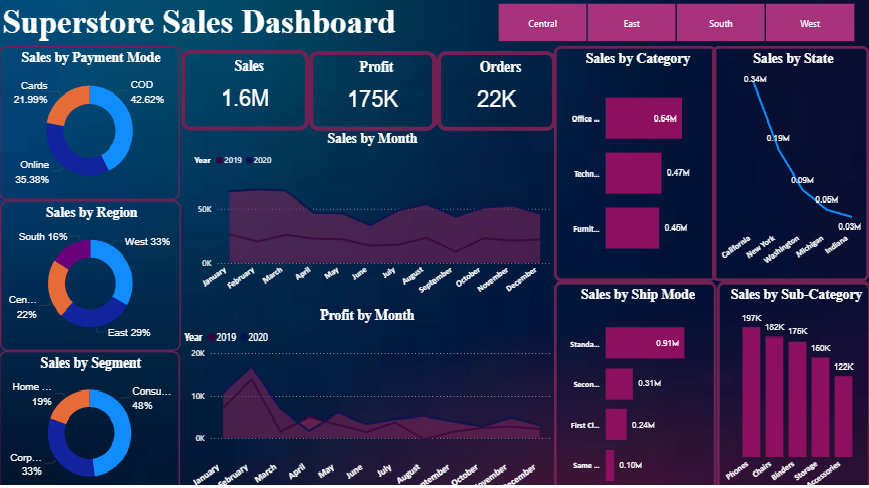

The page's visual inventory and layout, read from the dashboard file:
{"tool":"powerbi","page":{"name":"Page 1","canvas":[1280,720],"ordinal":0},"visuals":[{"type":"clusteredBarChart","title":"Sales by Category","fields":{"Category":["SuperStore_Sales_Dataset.Category"],"Y":["Sum(SuperStore_Sales_Dataset.Sales)"]},"box":[815.4,66.5,238.6,334],"z":0},{"type":"clusteredColumnChart","title":"Sales by Sub-Category","fields":{"Y":["Sum(SuperStore_Sales_Dataset.Sales)"],"Category":["SuperStore_Sales_Dataset.Sub-Category"]},"box":[1054,400.5,225.5,319.5],"z":1000},{"type":"lineChart","title":"Sales by State","fields":{"Category":["SuperStore_Sales_Dataset.State"],"Y":["Sum(SuperStore_Sales_Dataset.Sales)"]},"box":[1047.4,66.1,231.2,334.5],"z":2000},{"type":"clusteredBarChart","title":"Sales by Ship Mode","fields":{"Y":["Sum(SuperStore_Sales_Dataset.Sales)"],"Category":["SuperStore_Sales_Dataset.Ship Mode"]},"box":[815.4,400.5,238.6,319.5],"z":3000},{"type":"donutChart","title":"Sales by Region","fields":{"Y":["Sum(SuperStore_Sales_Dataset.Sales)"],"Category":["SuperStore_Sales_Dataset.Region"]},"box":[1.4,284.9,265.6,213.3],"z":4000},{"type":"donutChart","title":" Sales by Payment Mode","fields":{"Y":["Sum(SuperStore_Sales_Dataset.Sales)"],"Category":["SuperStore_Sales_Dataset.Payment Mode"]},"box":[0,66.2,266.2,219.1],"z":5000},{"type":"stackedAreaChart","title":" Sales by Month ","fields":{"Category":["SuperStore_Sales_Dataset.Order Date.Variation.Date Hierarchy.Month","SuperStore_Sales_Dataset.Order Date.Variation.Date Hierarchy.Day"],"Y":["Sum(SuperStore_Sales_Dataset.Sales)"],"Series":["SuperStore_Sales_Dataset.Order Date.Variation.Date Hierarchy.Year"]},"box":[281.9,186.5,533.5,248.7],"z":6000},{"type":"textbox","box":[0,0,766.3,66.5],"z":7000},{"type":"slicer","fields":{"Values":["SuperStore_Sales_Dataset.Region"]},"box":[707.4,0,572.6,66.1],"z":8000},{"type":"card","title":"Sales","fields":{"Values":["Sum(SuperStore_Sales_Dataset.Sales)"]},"box":[267.1,72.3,188.4,113.5],"z":9000},{"type":"donutChart","title":"Sales by Segment","fields":{"Y":["Sum(SuperStore_Sales_Dataset.Sales)"],"Category":["SuperStore_Sales_Dataset.Segment"]},"box":[0,498.5,266.2,210.3],"z":10000},{"type":"stackedAreaChart","title":"Profit by Month","fields":{"Y":["Sum(SuperStore_Sales_Dataset.Profit)"],"Category":["SuperStore_Sales_Dataset.Order Date.Variation.Date Hierarchy.Month"],"Series":["SuperStore_Sales_Dataset.Order Date.Variation.Date Hierarchy.Year"]},"box":[267,436.3,547.8,283.5],"z":11000},{"type":"card","title":"Profit","fields":{"Values":["Sum(SuperStore_Sales_Dataset.Profit)"]},"box":[455.4,73.7,186.5,112.8],"z":12000},{"type":"card","title":"Orders","fields":{"Values":["Sum(SuperStore_Sales_Dataset.Quantity)"]},"box":[641.9,73.7,174.9,112.8],"z":13000}]}

Visuals, with their boxes in screenshot pixels (x1, y1, x2, y2), scaled from the page's 1280x720 canvas onto the 869x488 screenshot:
"Sales by Category" clusteredBarChart: rect(554, 45, 716, 271)
"Sales by Sub-Category" clusteredColumnChart: rect(716, 271, 868, 487)
"Sales by State" lineChart: rect(711, 45, 868, 272)
"Sales by Ship Mode" clusteredBarChart: rect(554, 271, 716, 487)
"Sales by Region" donutChart: rect(1, 193, 181, 338)
" Sales by Payment Mode" donutChart: rect(0, 45, 181, 193)
" Sales by Month " stackedAreaChart: rect(191, 126, 554, 295)
textbox: rect(0, 0, 520, 45)
slicer - SuperStore_Sales_Dataset.Region: rect(480, 0, 868, 45)
"Sales" card: rect(181, 49, 309, 126)
"Sales by Segment" donutChart: rect(0, 338, 181, 480)
"Profit by Month" stackedAreaChart: rect(181, 296, 553, 487)
"Profit" card: rect(309, 50, 436, 126)
"Orders" card: rect(436, 50, 555, 126)
